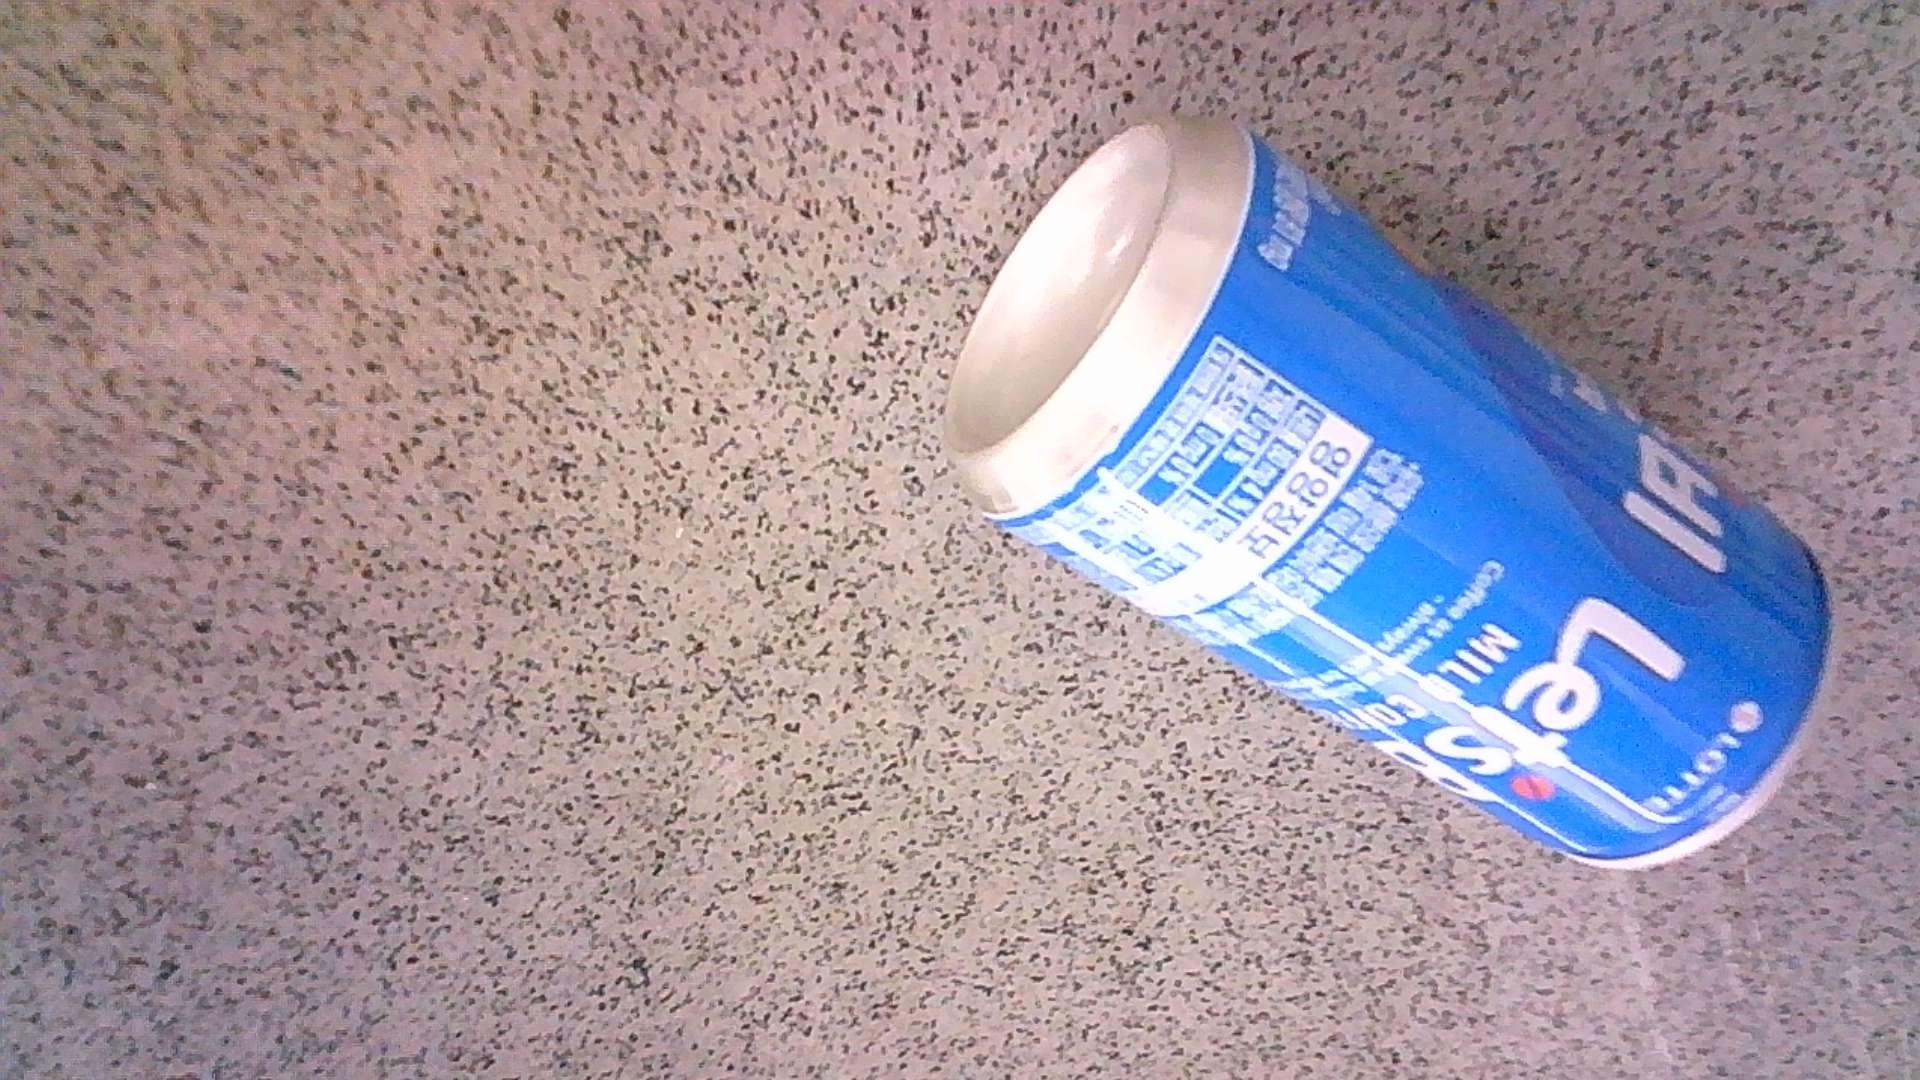letsbe: (943, 111, 1840, 872)
